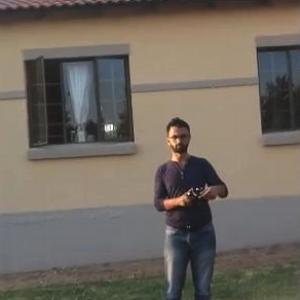follow: (151, 109, 235, 299)
